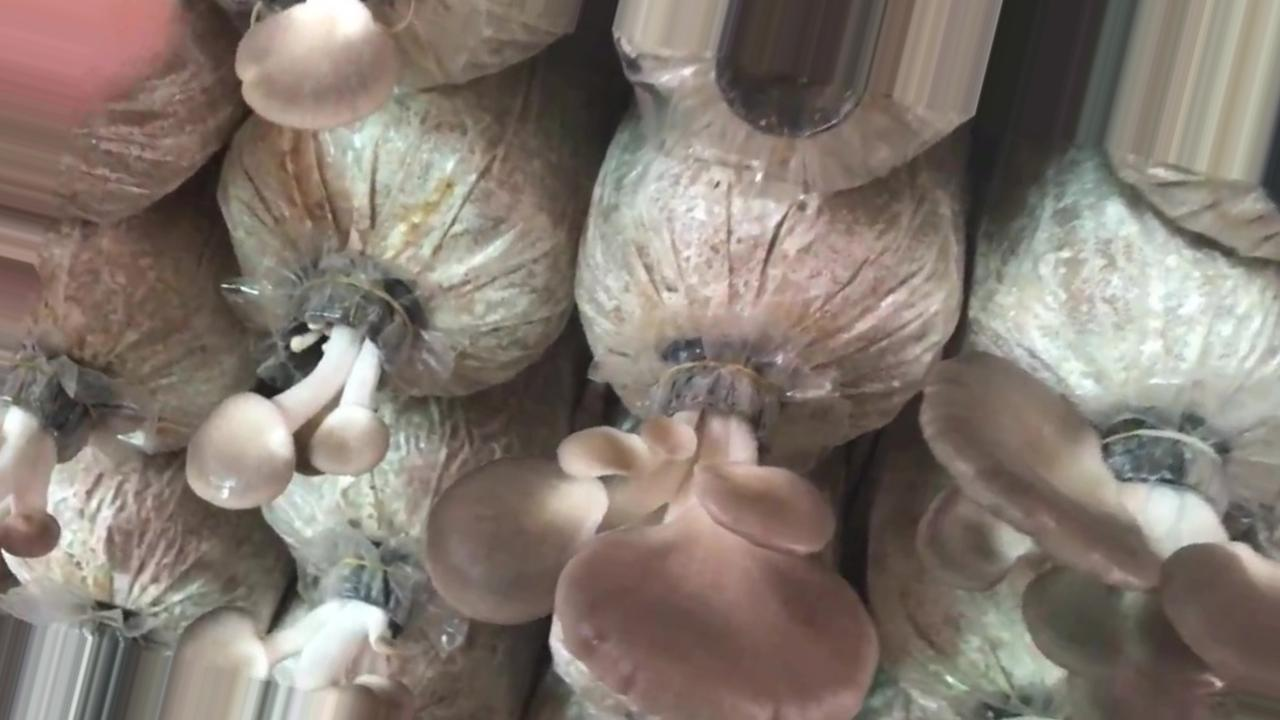nam: (429, 346, 880, 720), (916, 348, 1277, 720), (185, 259, 411, 509), (161, 560, 414, 720), (234, 2, 396, 135), (1, 355, 93, 557)
